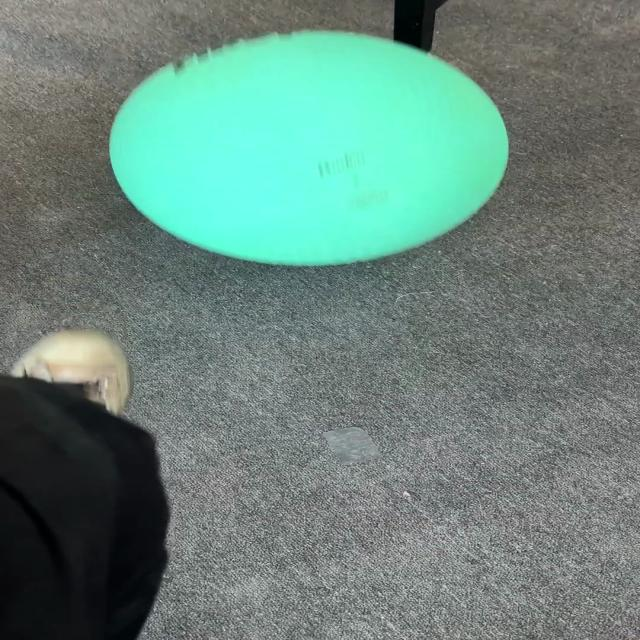Algae: (107, 29, 510, 267)
